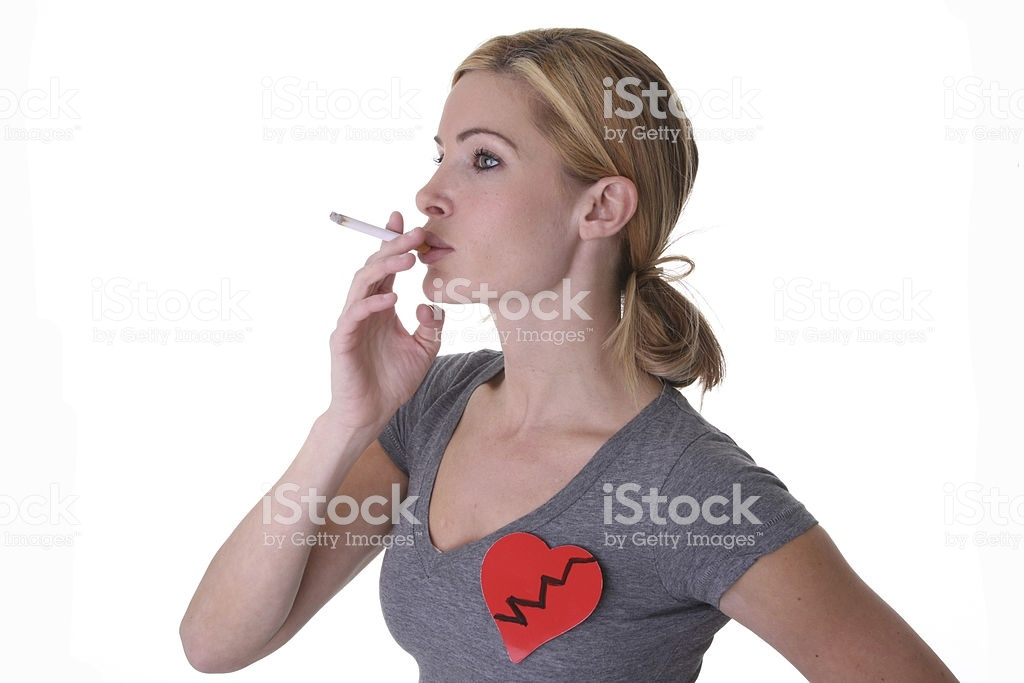sigaretta: (327, 207, 432, 257)
